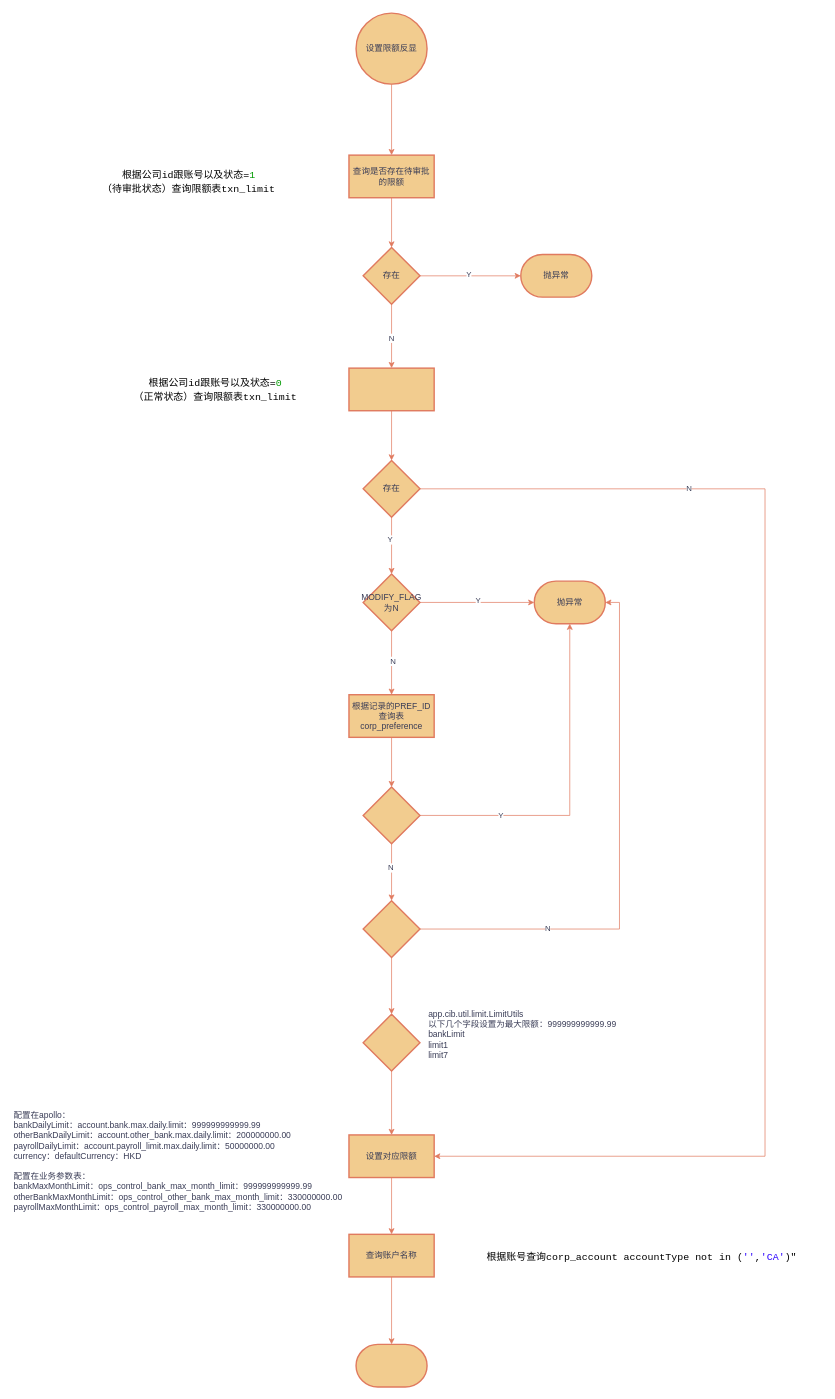
Image size: 835x1399. Some labels were removed from this diagram. Each missing label, with the centre of its shape:
"查询是否存在正常状态的限额" belongs at (391,389).
"组装数据，返回" belongs at (391,1365).
"记录BANK_LIMIT为空？" belongs at (391,1042).
"记录不存在" belongs at (391,815).
"记录状态跟审批状态均为0" belongs at (391,929).
